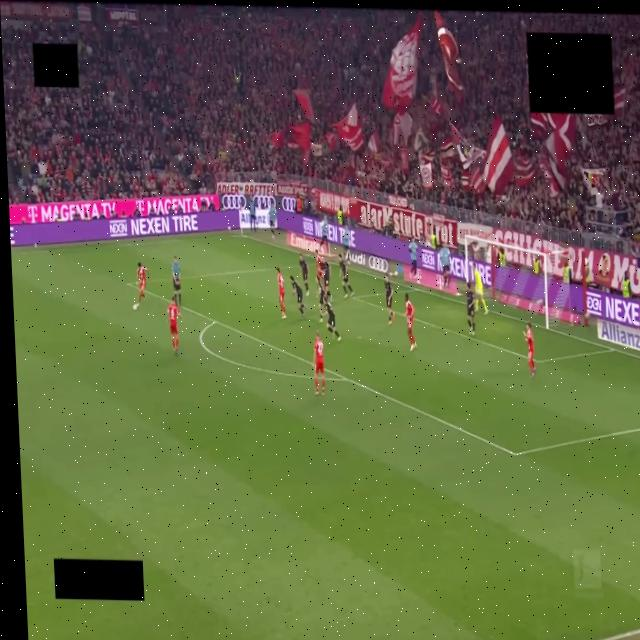ball: (133, 305, 137, 311)
player: (168, 295, 182, 355), (324, 293, 341, 341), (314, 331, 325, 395), (339, 255, 354, 297), (290, 276, 305, 318), (405, 294, 416, 351), (474, 266, 487, 314), (524, 323, 535, 378), (385, 275, 395, 325), (136, 262, 147, 306), (466, 282, 475, 335), (277, 268, 286, 318), (299, 254, 309, 295), (317, 278, 325, 322), (322, 259, 330, 293), (315, 250, 322, 278)
referee: (172, 257, 181, 306)
